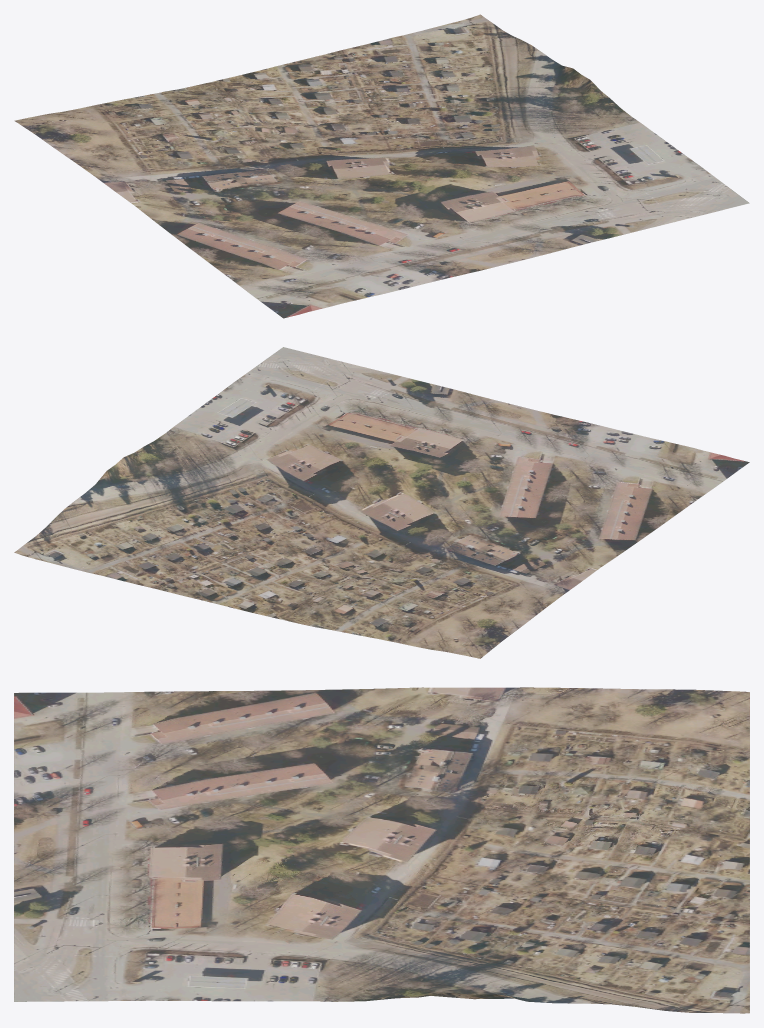
File: CM_Terrain_24489230_6821432.fbx
3 renders of one model, top to bottom at view 1: azimuth 30°, elevation 25°; view 2: azimuth 150°, elevation 25°; view 3: azimuth 270°, elevation 25°, orthographic. The views are drawn at different scales.
Visible parts, largest first — view 1: CM_Terrain_24489230_6821432_LOD0; view 2: CM_Terrain_24489230_6821432_LOD0; view 3: CM_Terrain_24489230_6821432_LOD0.
Part boxes in pixels (bbox=[...]): CM_Terrain_24489230_6821432_LOD0: bbox=[14, 14, 749, 318]; CM_Terrain_24489230_6821432_LOD0: bbox=[14, 347, 749, 658]; CM_Terrain_24489230_6821432_LOD0: bbox=[14, 687, 749, 1013].
Size of what is drawn, in the model's own units: 205 by 7.23 by 205.
